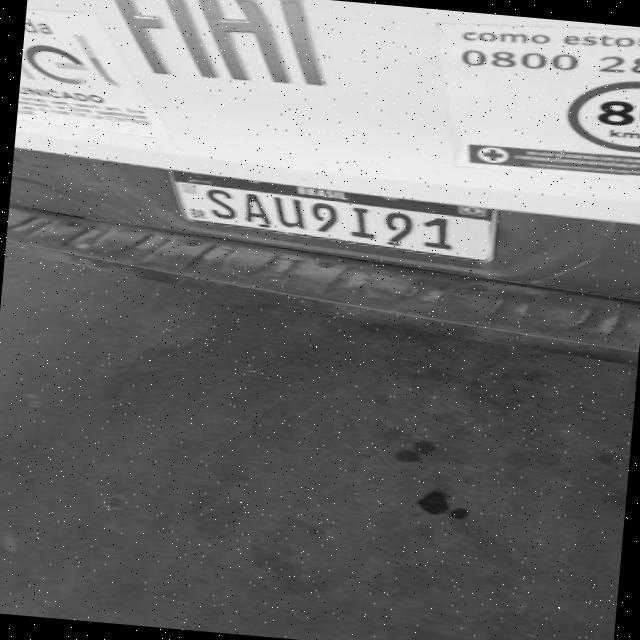placa_mercosul: (173, 177, 496, 260)
